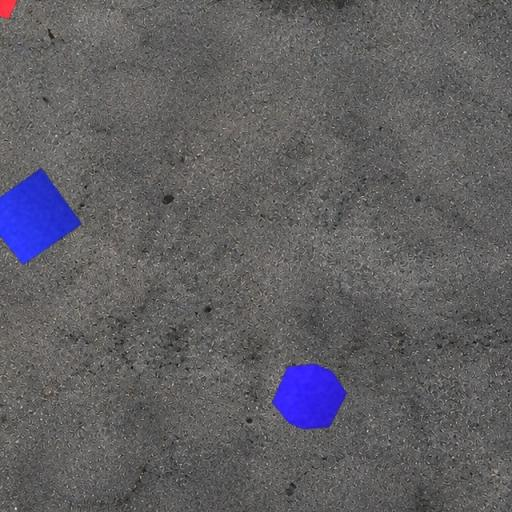BLUE_SQUARE: (0, 167, 83, 266)
